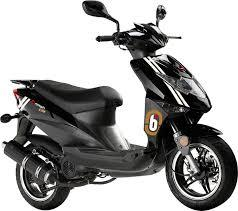motorcycle: (1, 0, 237, 209)
